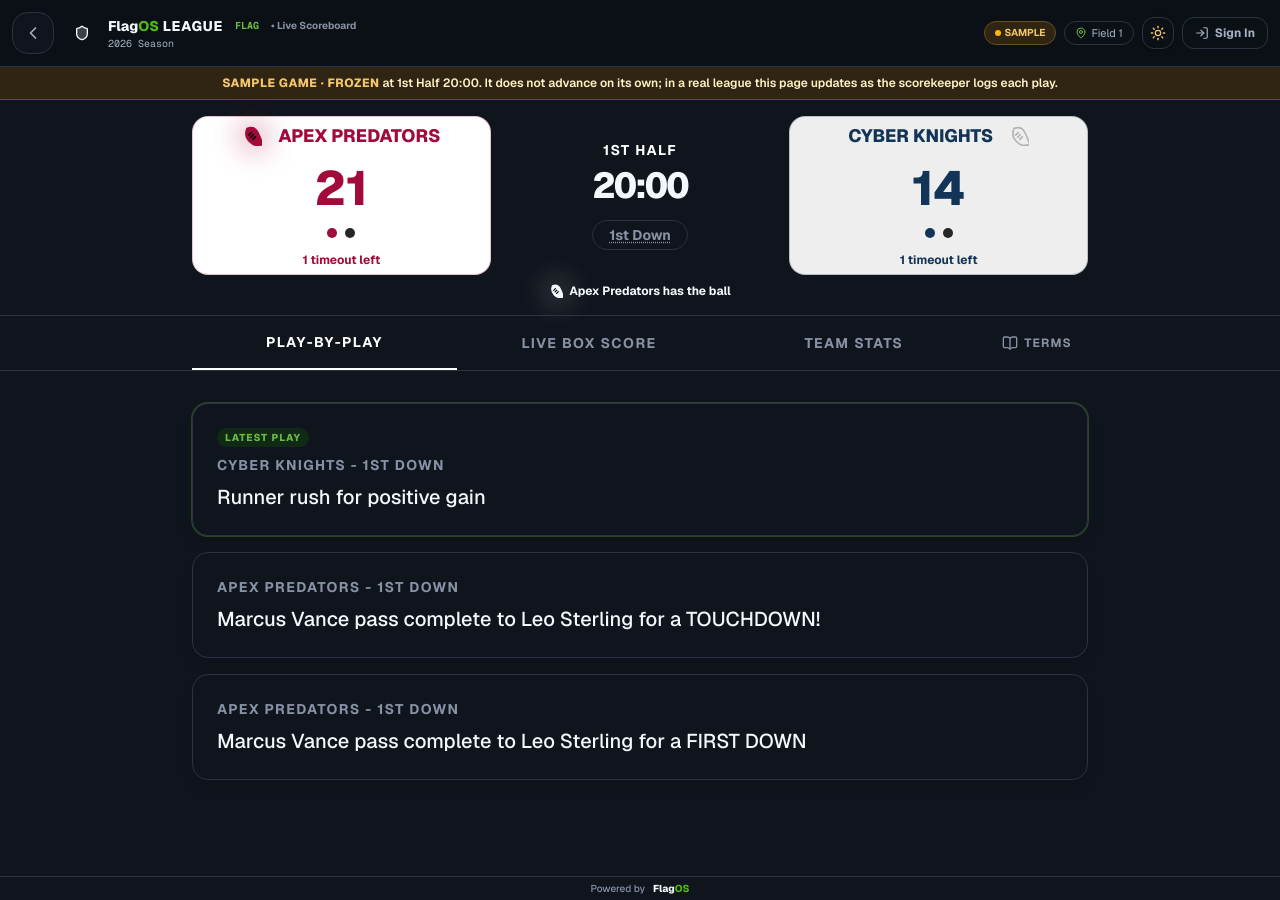
Test: Live Game Spectator & Box Score Suite (ViewerView) › opens terms drawer focused on Down when Down pill button is clicked
The width and height of the screenshot is (1280, 900).
Click the button titled "What is a down?": {"x": 640, "y": 235} [592,220,688,250]
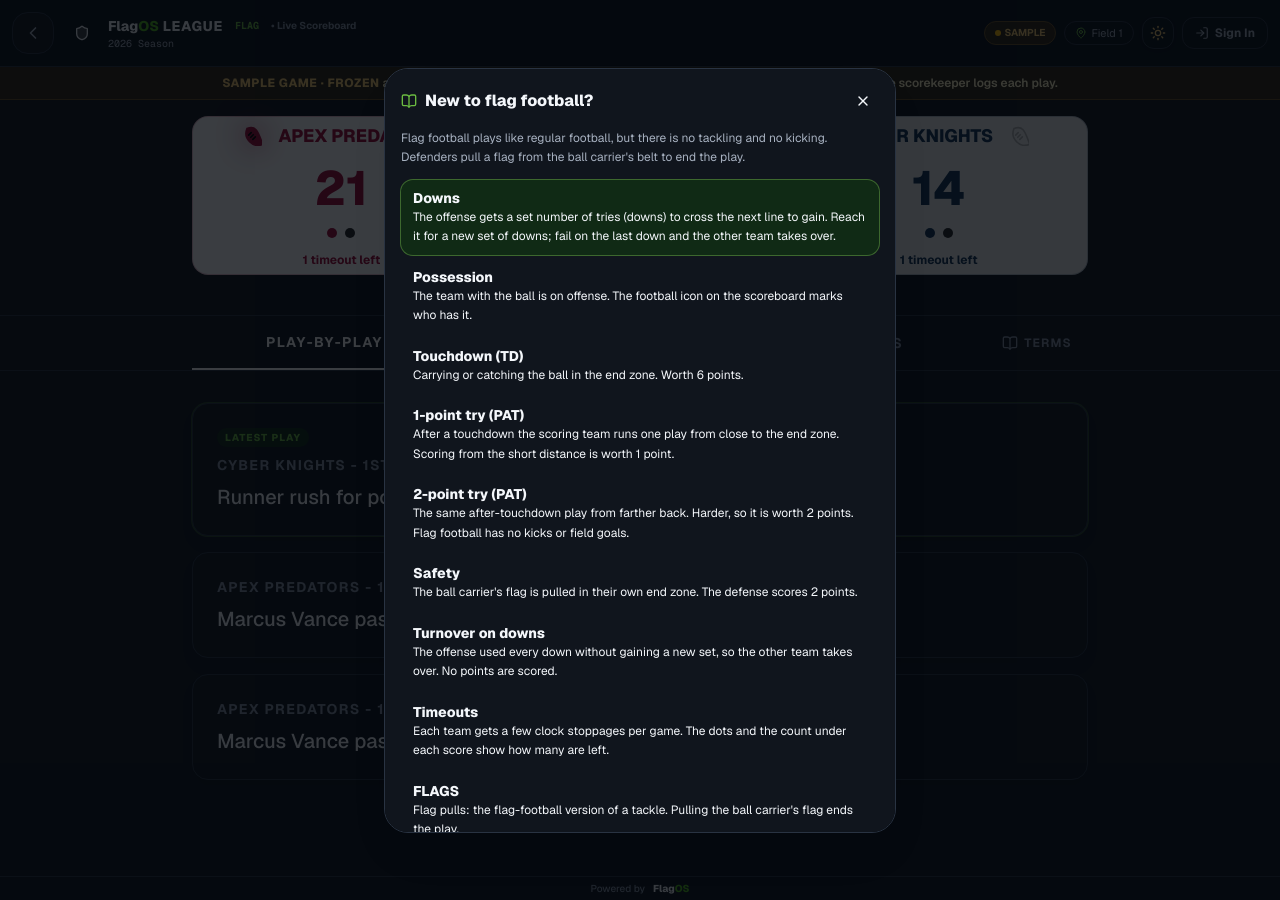
Now the dialog named "Flag football terms" is shown, box [384,68,896,832]
Now the heading "New to flag football?" is shown, box [401,88,594,112]
